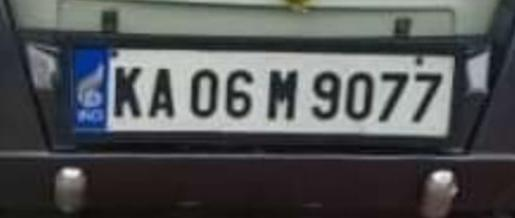0: (187, 66, 221, 119), (346, 70, 374, 123)
6: (222, 66, 255, 123)
7: (377, 67, 411, 127), (413, 67, 447, 127)
9: (311, 68, 342, 125)
A: (145, 64, 175, 120)
K: (113, 63, 143, 120)
M: (267, 66, 299, 123)
